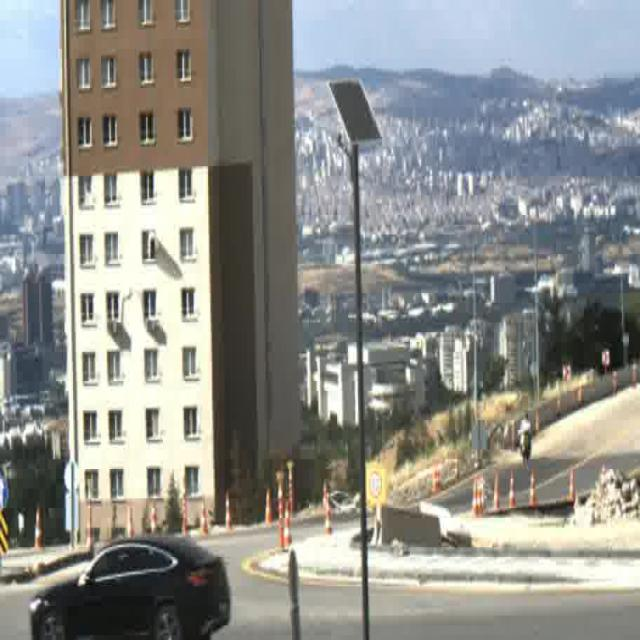Car: (25, 535, 227, 640)
Motorcycle: (516, 415, 536, 467)
